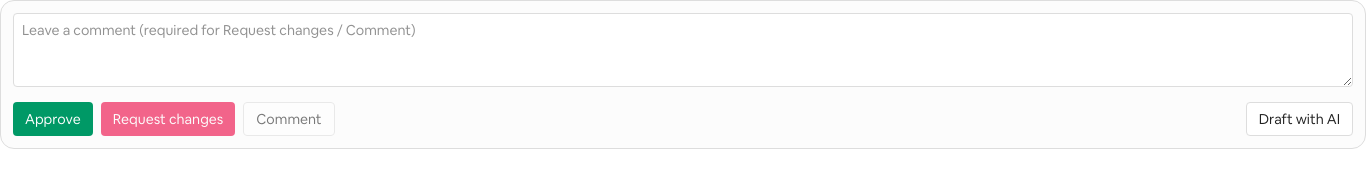
Draft with AI › surfaces a no_provider message without seeding the textarea
Click the button "Draft with AI" at {"x": 1299, "y": 119}, box [1246,102,1353,136]
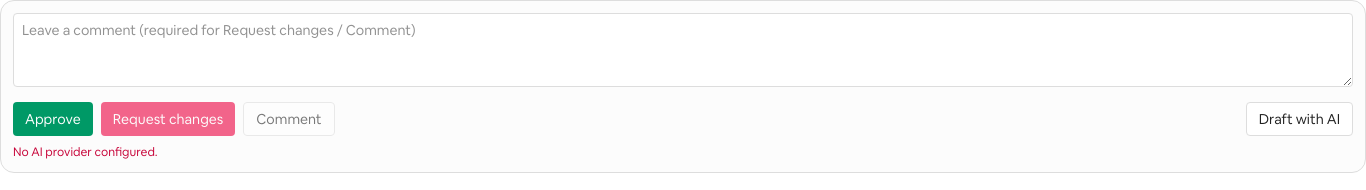
Expected: the text box named "review comment" is empty, [13,13,1353,87]
Result: the message shows "No AI provider" at [13,144,158,160]
